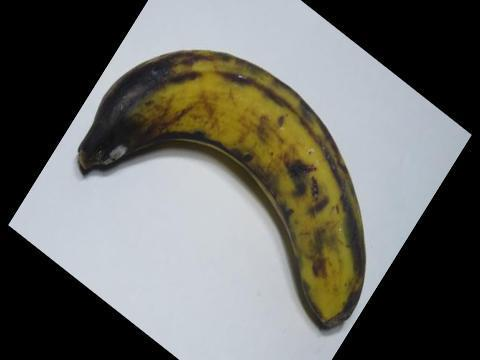overripe: (66, 43, 369, 349)
rotten: (53, 60, 172, 179)
